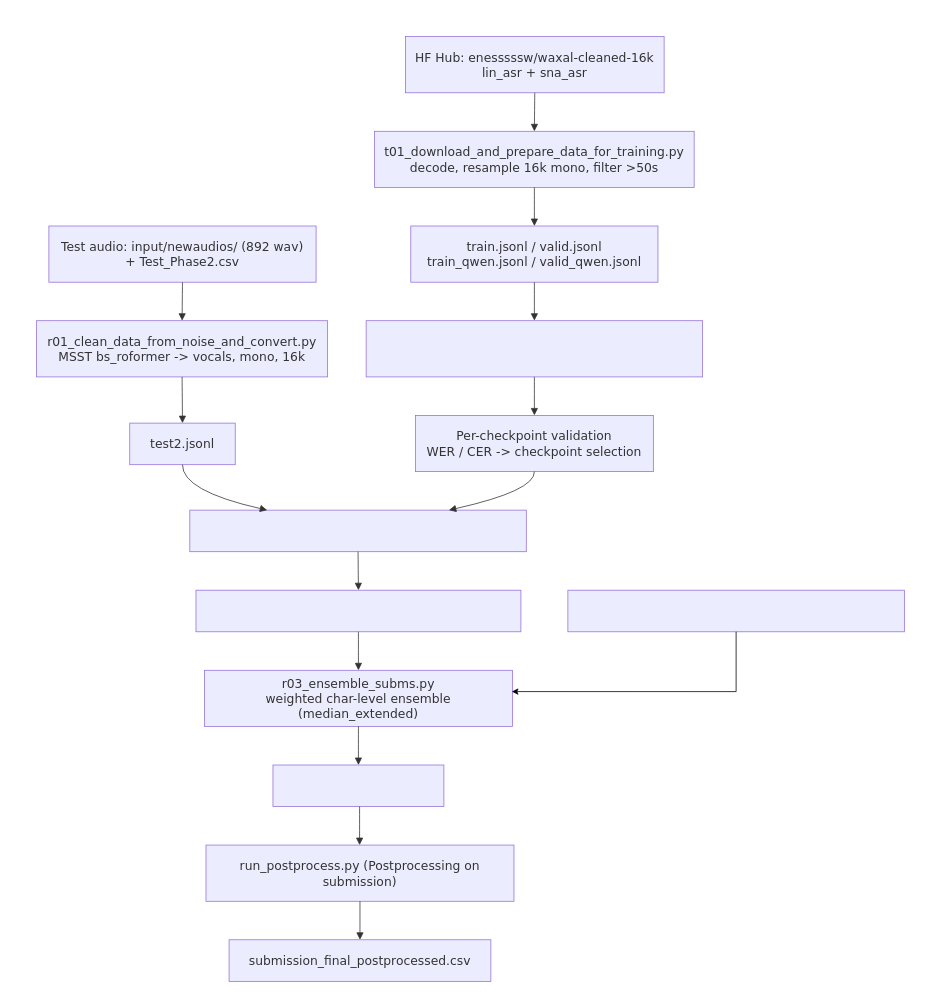
The diagram is 925 pixels wide and 995 high, and some of its shapes have lost their labels. The shapes that lost their labels are listed below. From the top down, each one's centre as x and y in pixels, then its label:
point 534,348: Training: 6 architectures MMS, XLS-R, Whisper, Parakeet, Granite, Qwen3-ASR
point 357,530: Inference: 6 fine-tuned + 1 third-party SALT Whisper
point 358,610: submission/.jsonl -> r02_convert_to_csv.py -> .csv
point 735,610: Fine-tune: Sunbird SALT + noisy-student LoRA
point 358,785: submission_final_8.csv
